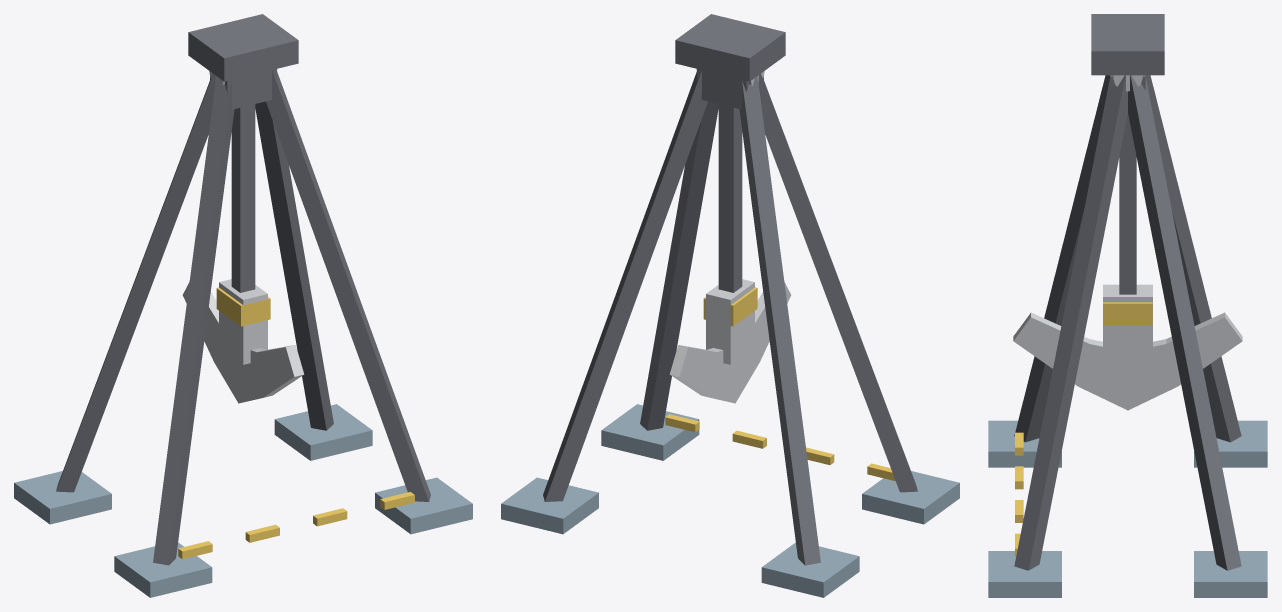
File: animated-mechanisms-kit-swinging-blade-f0376679__24654.glb
3 renders of one model, left to right at view 1: azimuth 30°, elevation 25°; view 2: azimuth 150°, elevation 25°; view 3: azimuth 270°, elevation 25°, orthographic. The views are drawn at different scales.
Visible parts, largest first — view 1: swinging-blade, blade/steel, blade/iron, blade/accent; view 2: swinging-blade, blade/steel, blade/iron, blade/accent; view 3: swinging-blade, blade/steel, blade/iron, blade/accent.
Boxes of the visible parts, bbox=[...] form: swinging-blade: bbox=[14, 14, 472, 597]; blade/steel: bbox=[182, 279, 304, 403]; blade/iron: bbox=[210, 69, 276, 292]; blade/accent: bbox=[216, 287, 270, 326]; swinging-blade: bbox=[501, 14, 959, 597]; blade/steel: bbox=[669, 279, 791, 403]; blade/iron: bbox=[697, 69, 763, 292]; blade/accent: bbox=[703, 287, 757, 326]; swinging-blade: bbox=[988, 14, 1267, 597]; blade/steel: bbox=[1013, 284, 1242, 410]; blade/iron: bbox=[1110, 75, 1145, 294]; blade/accent: bbox=[1103, 302, 1152, 324].
Bounding box in the file's own units: 2.6 × 3.64 × 1.9.
